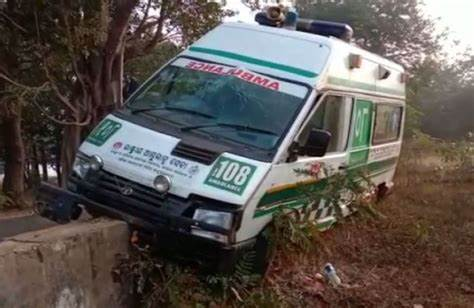ambulance: (67, 23, 411, 243)
